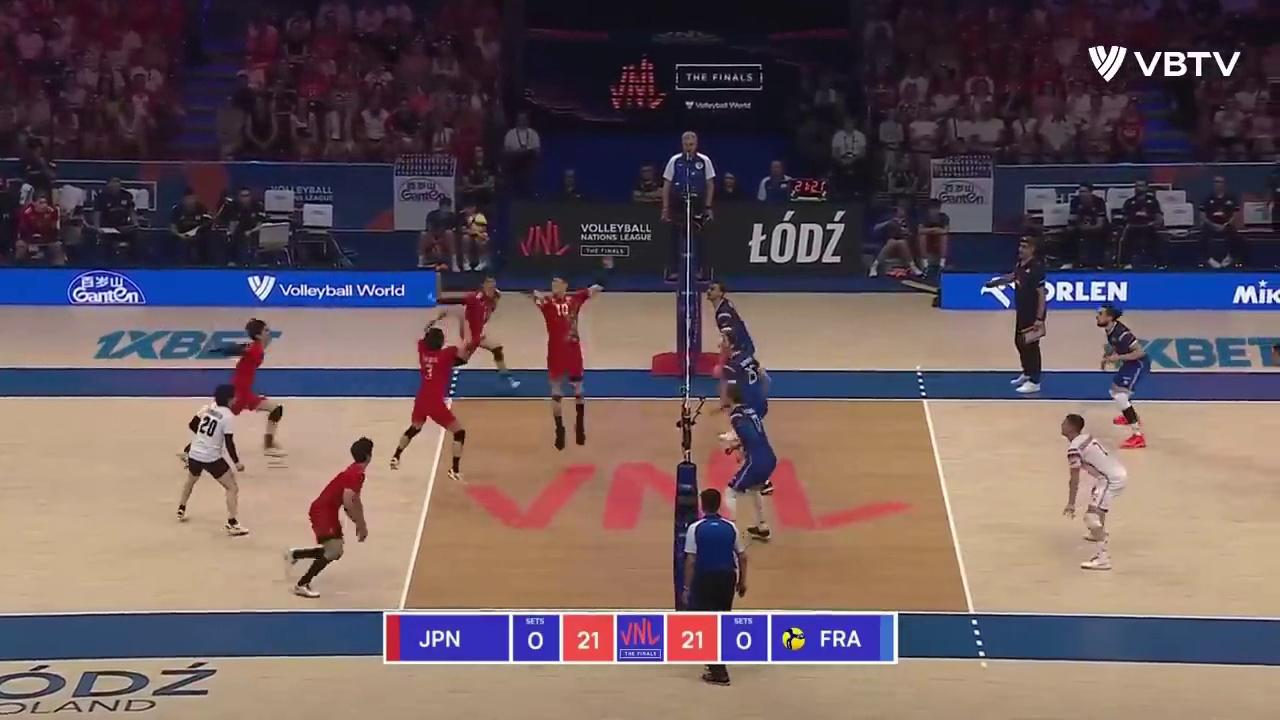ball: (468, 214, 488, 235)
